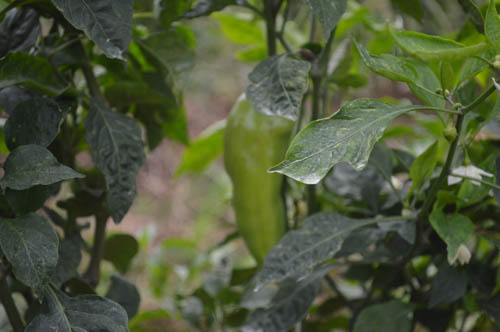ChiliPepper: (221, 92, 288, 259)
